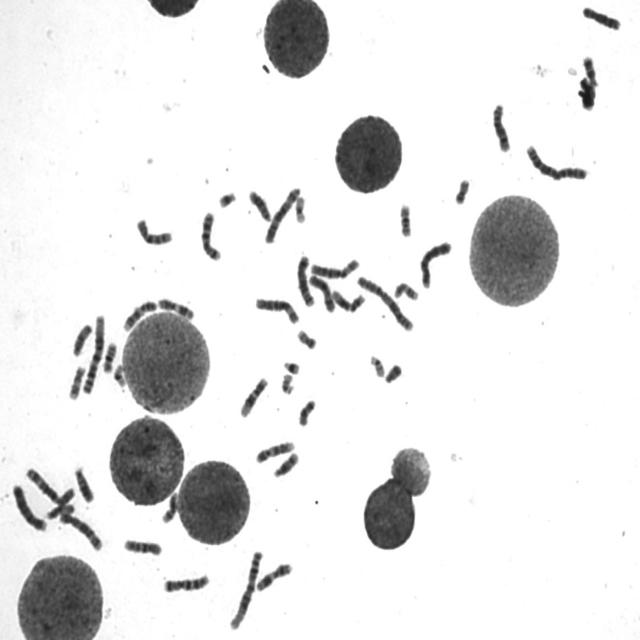A1: (227, 546, 264, 631), (80, 310, 107, 396)
A2: (354, 272, 416, 333), (524, 140, 590, 182)
A3: (262, 183, 303, 245), (23, 463, 76, 508)
B4: (10, 480, 48, 533), (417, 238, 454, 290)
B5: (58, 509, 104, 553), (294, 252, 316, 308)
C10: (134, 215, 174, 248), (121, 535, 163, 557)
C11: (253, 558, 294, 594), (156, 294, 196, 321)
C12: (238, 374, 270, 419), (330, 286, 367, 314)
C6: (252, 294, 300, 326), (308, 254, 362, 280)
C7: (198, 208, 223, 262), (161, 570, 211, 594)
C8: (580, 2, 622, 32), (490, 100, 512, 154)
C9: (120, 297, 158, 333), (253, 437, 296, 465)
D13: (246, 186, 273, 223), (72, 462, 95, 504)
D14: (271, 448, 300, 478), (159, 491, 183, 524)
D15: (44, 499, 80, 524), (70, 320, 94, 357)
E16: (100, 338, 119, 374), (397, 200, 414, 239)
E17: (66, 362, 87, 401), (392, 278, 419, 302)
E18: (582, 52, 602, 91), (296, 396, 318, 428)
F19: (111, 362, 127, 392), (293, 193, 307, 224)
F20: (452, 175, 472, 206), (295, 326, 318, 351)
G21: (216, 187, 238, 209), (281, 357, 302, 375)
G22: (367, 352, 386, 378), (279, 370, 296, 396)
X: (307, 272, 336, 314)
Y: (382, 360, 404, 384)
